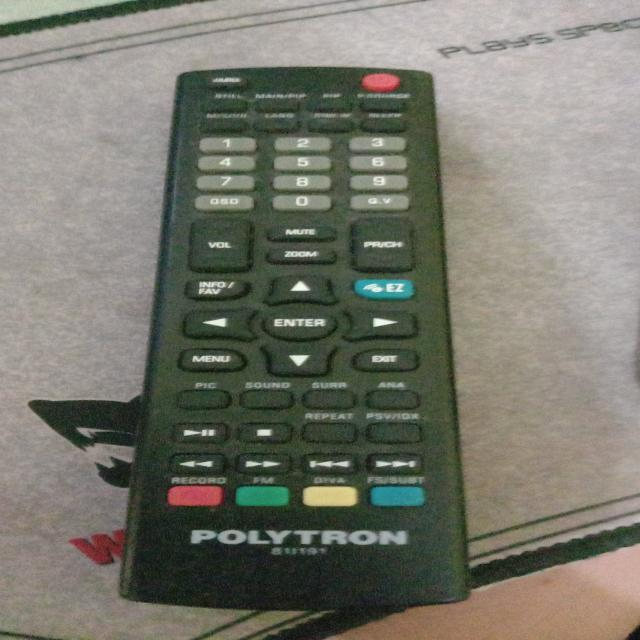remote: (85, 66, 469, 622)
